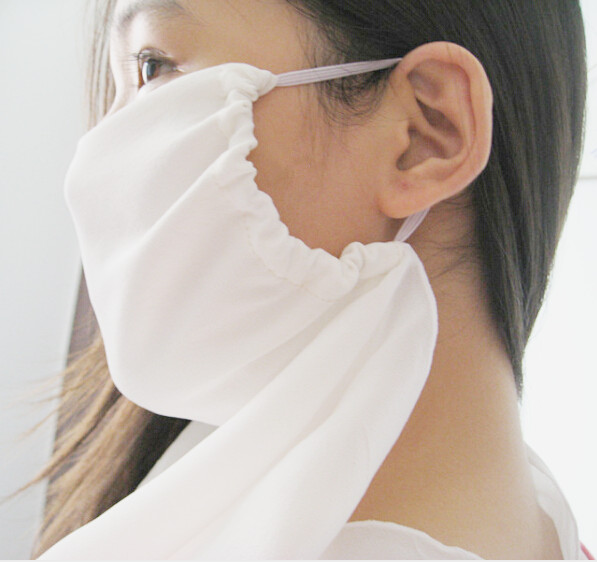face_mask: (69, 1, 365, 418)
